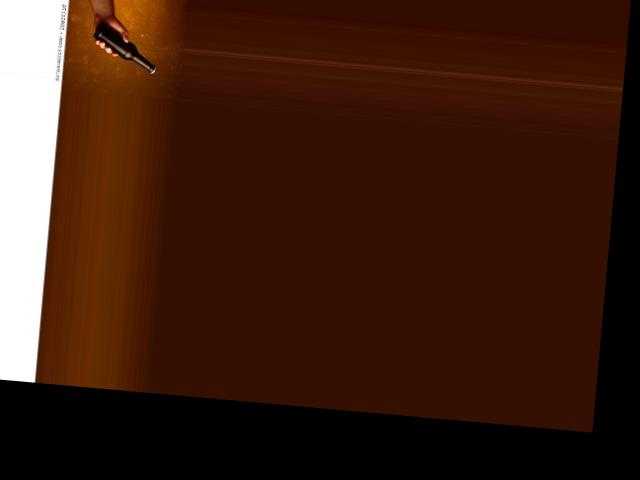beer: (90, 19, 160, 74)
